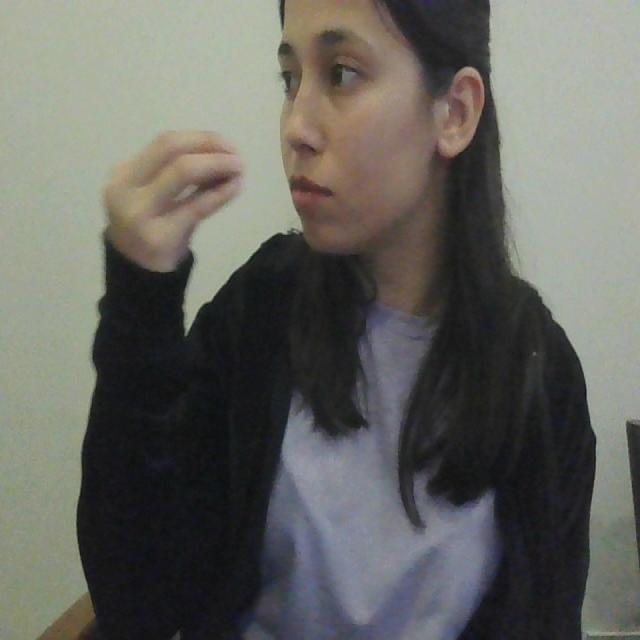Yemek: (102, 120, 354, 219)
